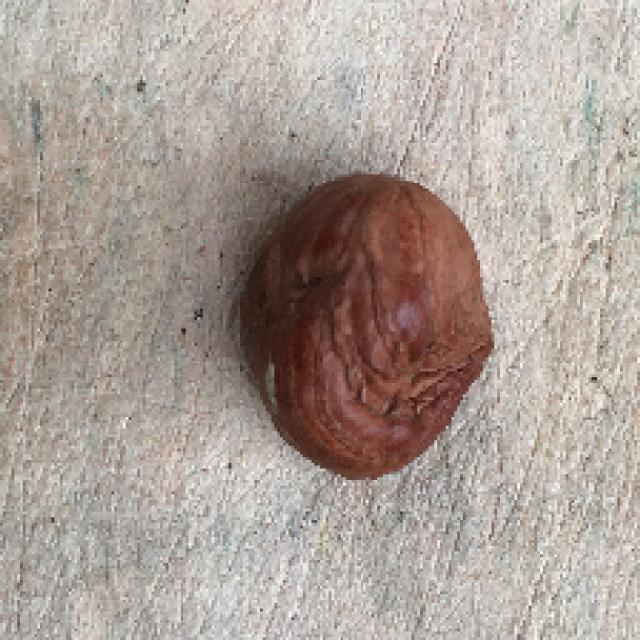hazelnut: (226, 149, 506, 506)
